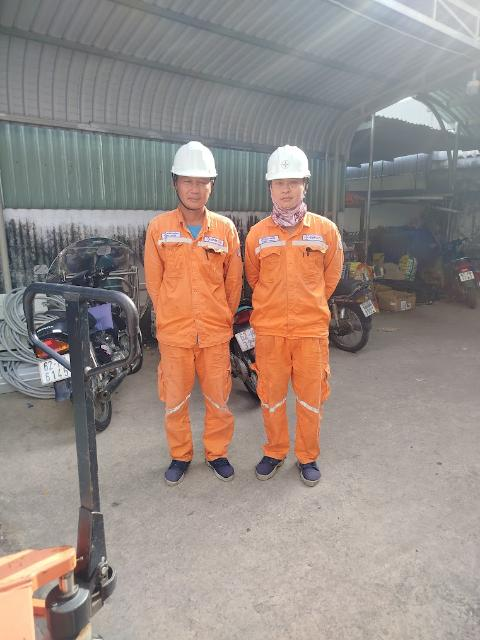helmet: (164, 134, 224, 189), (261, 139, 310, 192)
shoes: (157, 451, 196, 503), (250, 446, 296, 485), (289, 451, 330, 488), (201, 442, 237, 484)
